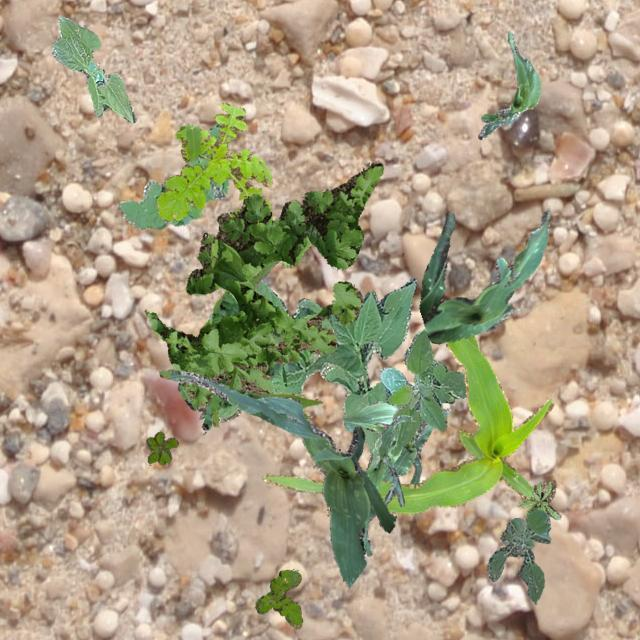crop: (262, 332, 552, 512), (168, 370, 396, 586), (198, 278, 416, 454), (158, 258, 322, 426), (418, 208, 548, 342), (342, 401, 449, 522), (378, 328, 466, 454), (50, 15, 134, 121), (361, 414, 412, 554), (476, 30, 540, 138)
weed: (146, 160, 382, 408), (176, 291, 282, 428), (156, 102, 272, 226), (119, 122, 228, 228), (486, 508, 550, 602), (254, 570, 302, 628), (518, 478, 560, 518), (146, 431, 178, 464)
